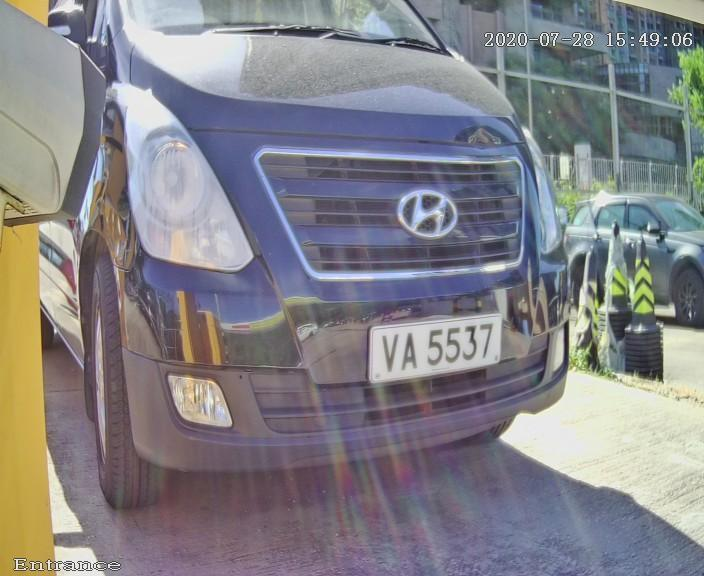privatecar: (13, 3, 635, 548)
